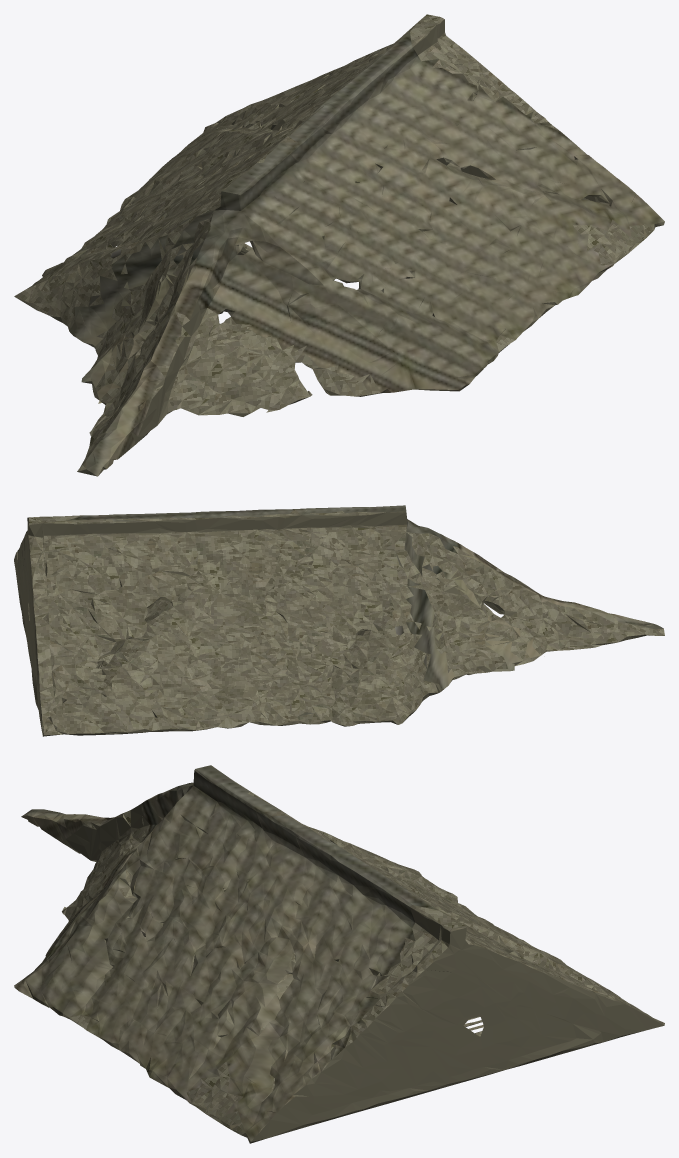
The picture shows the model from 3 angles, top to bottom: view 1: azimuth 30°, elevation 25°; view 2: azimuth 150°, elevation 25°; view 3: azimuth 270°, elevation 25°; orthographic projection. The views are drawn at different scales.
Parts seen in each view (by area): view 1: painted, roof, wall; view 2: roof, wall, painted; view 3: painted, wall, roof.
Part boxes in pixels (<box>): painted: <box>69,32,664,476</box>; roof: <box>14,14,654,471</box>; wall: <box>15,19,662,459</box>; roof: <box>16,509,664,736</box>; wall: <box>14,512,655,736</box>; painted: <box>16,505,663,716</box>; painted: <box>14,765,469,1143</box>; wall: <box>44,804,664,1143</box>; roof: <box>46,765,664,1134</box>.
Size of the model in its own units: 6.35 by 1.46 by 5.26.
3 materials, 3 textured.
